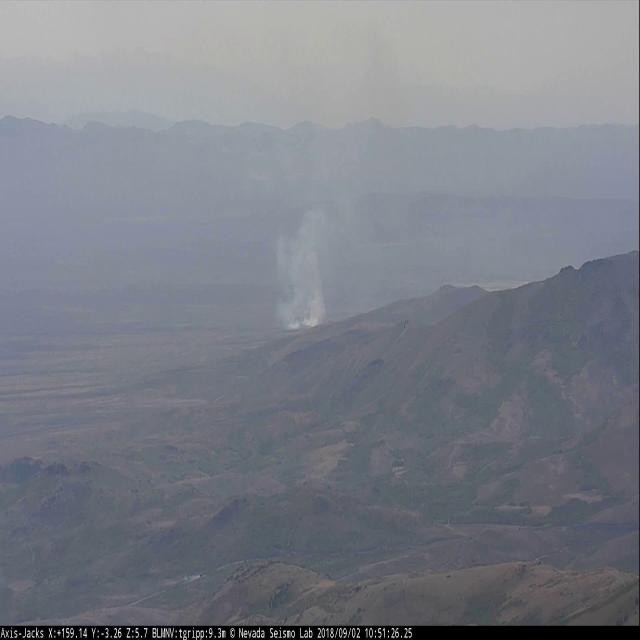smoke: (270, 46, 380, 331)
